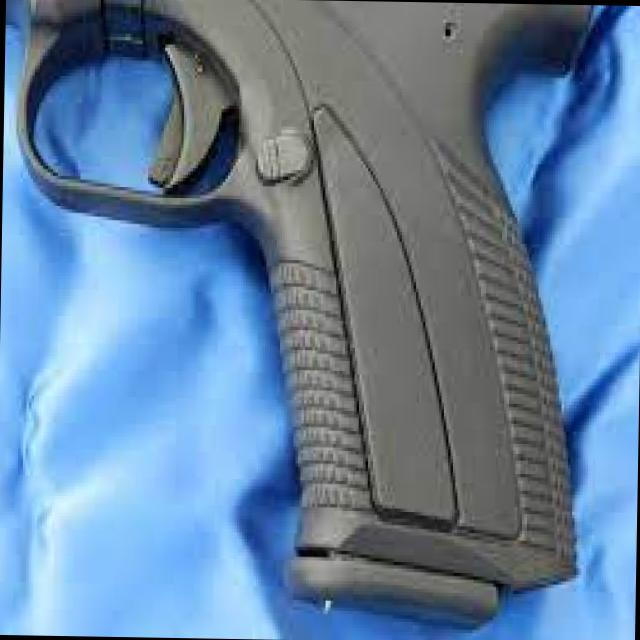Gun: (12, 0, 640, 608)
